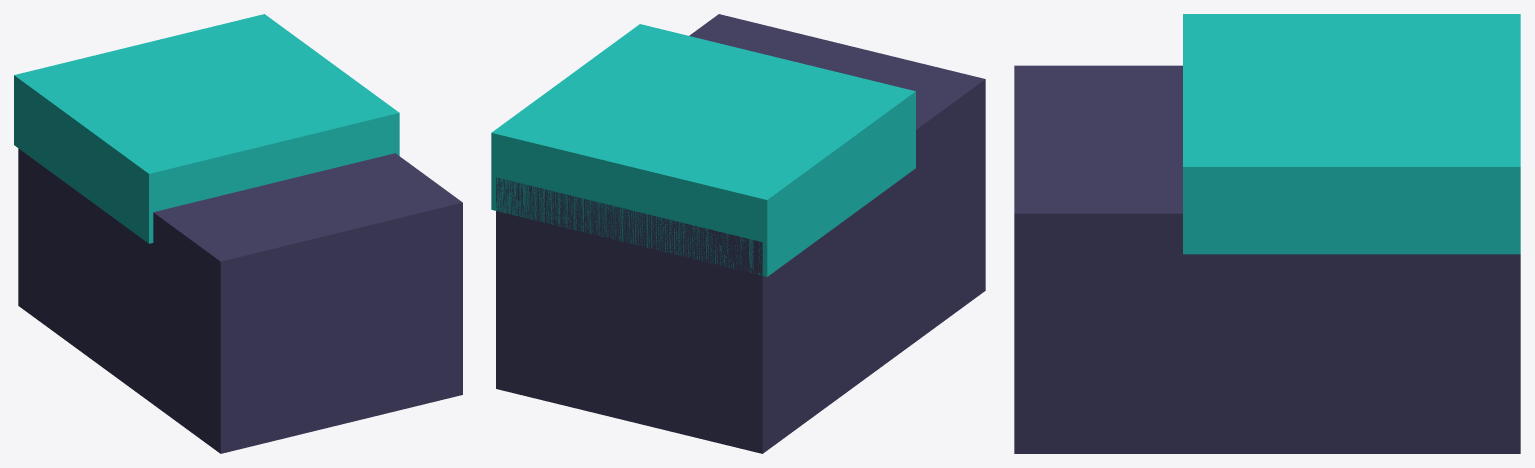
File: boots-2.obj
The picture shows the model from 3 angles, left to right: view 1: azimuth 30°, elevation 25°; view 2: azimuth 150°, elevation 25°; view 3: azimuth 270°, elevation 25°; orthographic projection. The views are drawn at different scales.
Size of the model in its own units: 0.3 by 0.265 by 0.42.
